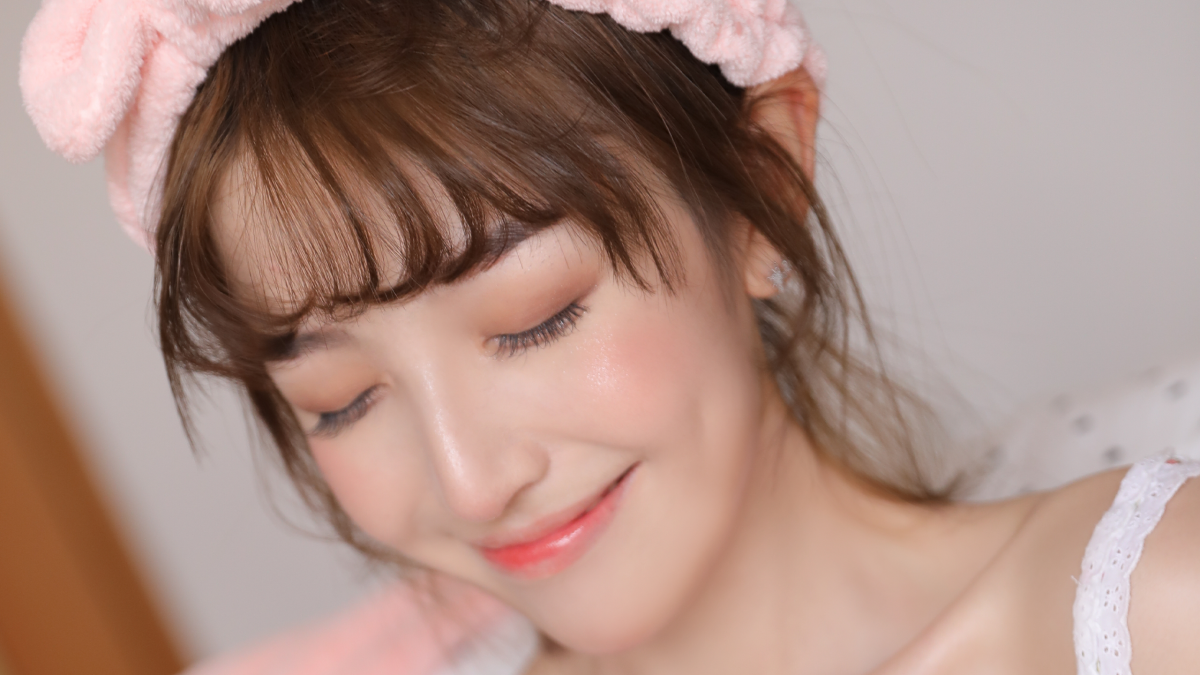person: (39, 45, 1078, 675)
